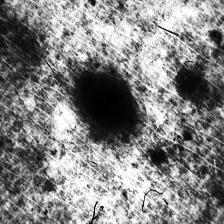Benign Marking or Mole: (79, 74, 136, 128)
